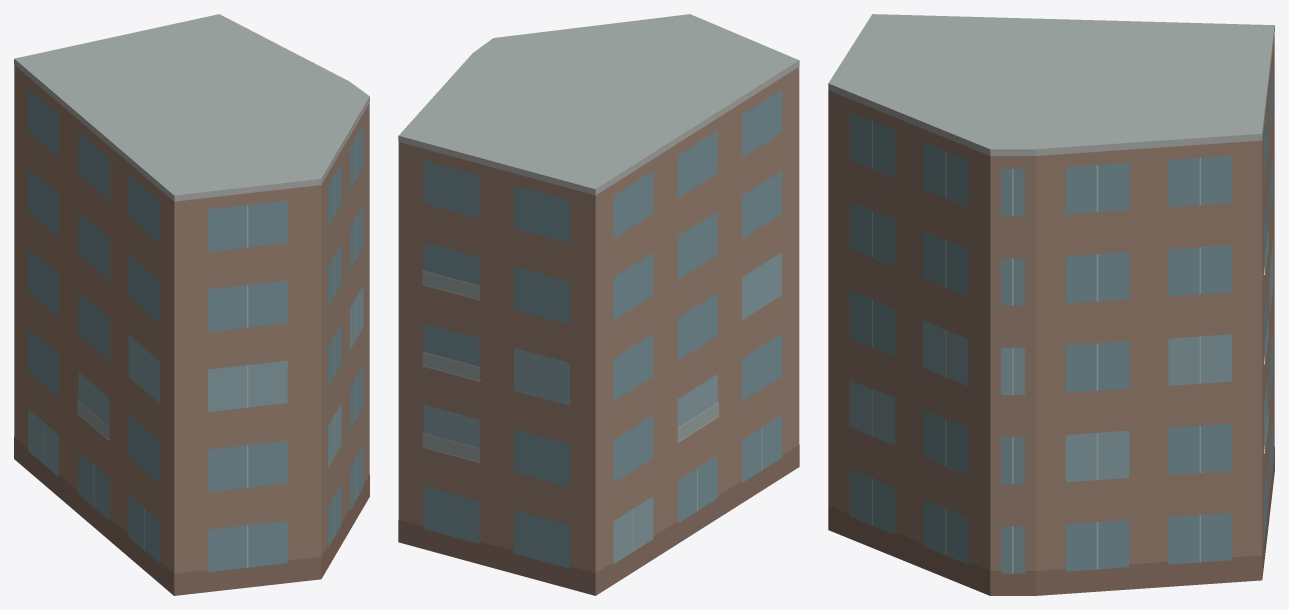
Rendered from survey-upis-32640967.glb.
3 views of the same model, side by side, from view 1: azimuth 30°, elevation 25°; view 2: azimuth 150°, elevation 25°; view 3: azimuth 270°, elevation 25° (orthographic). The views are drawn at different scales.
Parts seen in each view (by area): view 1: survey-upis-32640967.tmp; view 2: survey-upis-32640967.tmp; view 3: survey-upis-32640967.tmp.
Part boxes in pixels (x1,y1,x2,y2): survey-upis-32640967.tmp: (14, 14, 369, 595); survey-upis-32640967.tmp: (398, 14, 799, 595); survey-upis-32640967.tmp: (828, 14, 1274, 595).
Size of the model in its own units: 10.47 by 16.1 by 14.6.
